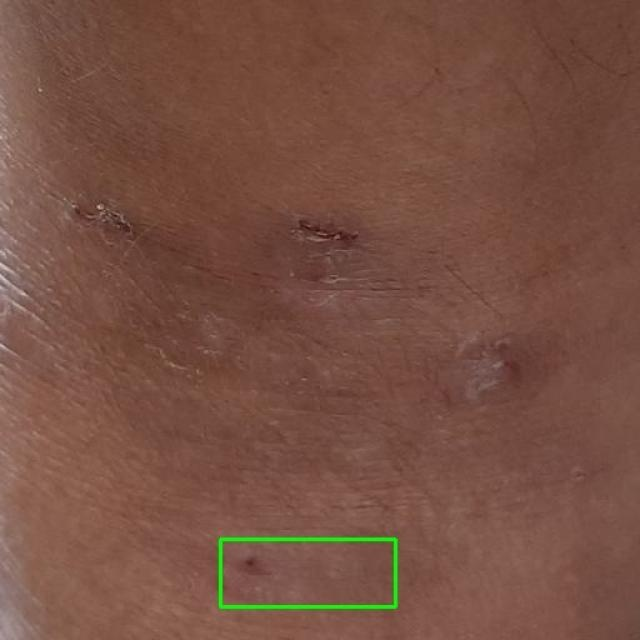Contact Dermatitis: (220, 539, 395, 606)
